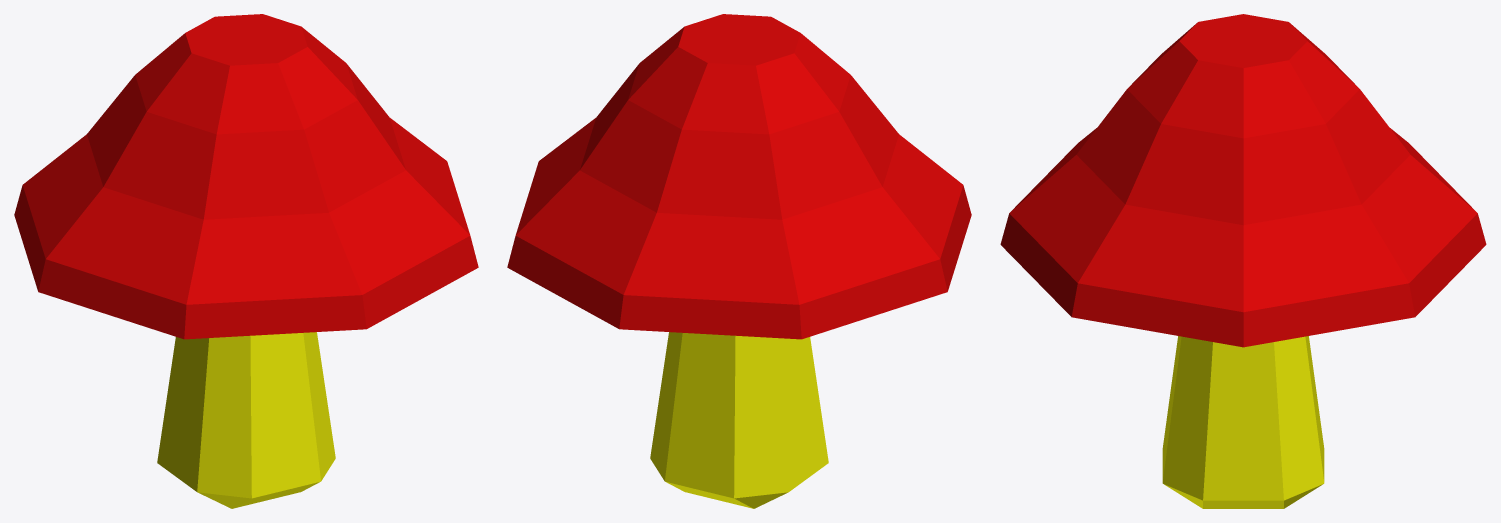
The model's file is Abbie - Mushroom1.fbx.
3 renders of one model, left to right at view 1: azimuth 30°, elevation 25°; view 2: azimuth 150°, elevation 25°; view 3: azimuth 270°, elevation 25°, orthographic.
Visible parts, largest first — view 1: mushroom1; view 2: mushroom1; view 3: mushroom1.
Boxes of the visible parts, bbox=[...] form: mushroom1: bbox=[14, 14, 478, 508]; mushroom1: bbox=[507, 14, 971, 508]; mushroom1: bbox=[1000, 14, 1486, 508].
Bounding box in the file's own units: 16.44 × 16.82 × 16.44.
